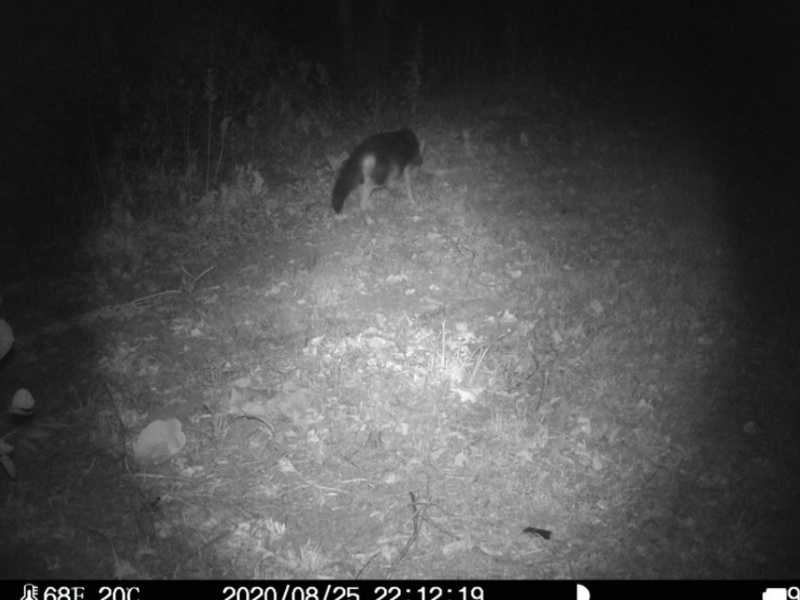dog: (323, 123, 437, 222)
